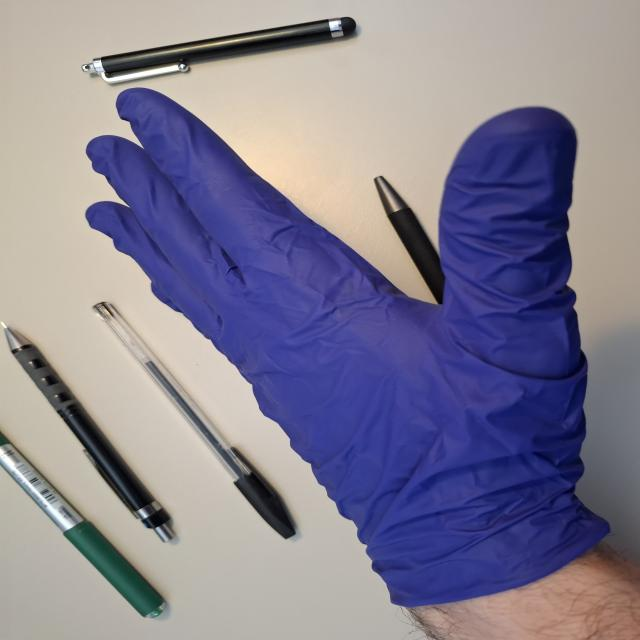glove_on: (82, 85, 612, 616)
